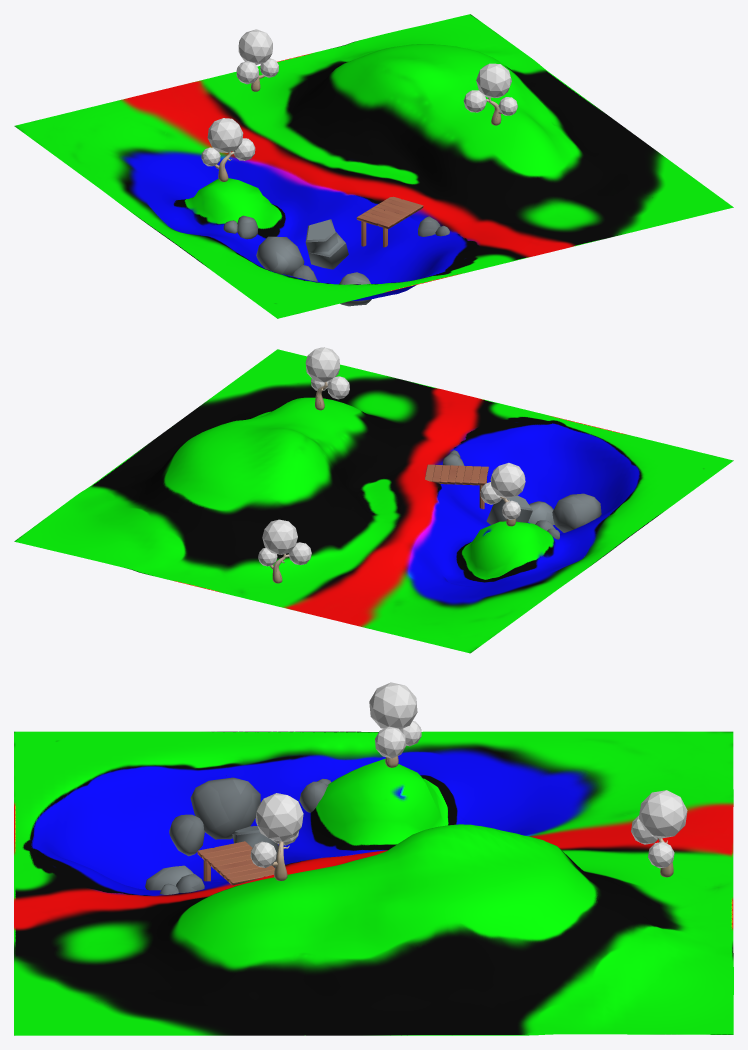
The model's file is testbed.glb.
3 views of the same model, one above another, from view 1: azimuth 30°, elevation 25°; view 2: azimuth 150°, elevation 25°; view 3: azimuth 270°, elevation 25° (orthographic). The views are drawn at different scales.
Visible parts, largest first — view 1: Terrain, Rock_1_A_Color1, Pier, Rock_3_D_Color1.002, Tree_Cannopy_1_C_Color6.001, Tree_Cannopy_1_C_Color6.007, Tree_Cannopy_1_C_Color6.004; view 2: Terrain, Rock_3_D_Color1.002, Pier, Tree_Cannopy_1_C_Color6.004, Tree_Cannopy_1_C_Color6.001, Tree_Cannopy_1_C_Color6.007, Rock_1_A_Color1; view 3: Terrain, Rock_3_D_Color1.002, Pier, Tree_Cannopy_1_C_Color6.004, Tree_Cannopy_1_C_Color6.007, Tree_Cannopy_1_C_Color6.001, Rock_3_D_Color1.005, Tree_Cannopy_1_C_Color6.002, Rock_3_F_Color1, Rock_1_A_Color1, Rock_3_D_Color1.001.
Boxes of the visible parts, x1,y1,x2,y2 form: Terrain: [14, 14, 733, 318]; Rock_1_A_Color1: [305, 219, 348, 269]; Pier: [356, 196, 423, 247]; Rock_3_D_Color1.002: [256, 236, 304, 275]; Tree_Cannopy_1_C_Color6.001: [207, 118, 243, 152]; Tree_Cannopy_1_C_Color6.007: [476, 63, 511, 97]; Tree_Cannopy_1_C_Color6.004: [238, 29, 272, 64]; Terrain: [14, 349, 733, 653]; Rock_3_D_Color1.002: [552, 493, 601, 532]; Pier: [425, 464, 488, 509]; Tree_Cannopy_1_C_Color6.004: [262, 519, 297, 554]; Tree_Cannopy_1_C_Color6.001: [490, 462, 525, 498]; Tree_Cannopy_1_C_Color6.007: [305, 347, 339, 382]; Rock_1_A_Color1: [486, 495, 532, 524]; Terrain: [14, 731, 733, 1035]; Rock_3_D_Color1.002: [190, 777, 260, 839]; Pier: [197, 841, 274, 885]; Tree_Cannopy_1_C_Color6.004: [638, 790, 687, 838]; Tree_Cannopy_1_C_Color6.007: [255, 793, 303, 841]; Tree_Cannopy_1_C_Color6.001: [369, 682, 417, 729]; Rock_3_D_Color1.005: [169, 814, 204, 856]; Tree_Cannopy_1_C_Color6.002: [375, 726, 406, 758]; Rock_3_F_Color1: [145, 865, 193, 890]; Rock_1_A_Color1: [232, 826, 278, 867]; Rock_3_D_Color1.001: [299, 781, 328, 812].
Bounding box in the file's own units: 60.05 × 21.77 × 60.05.
4 materials, 4 textured.
